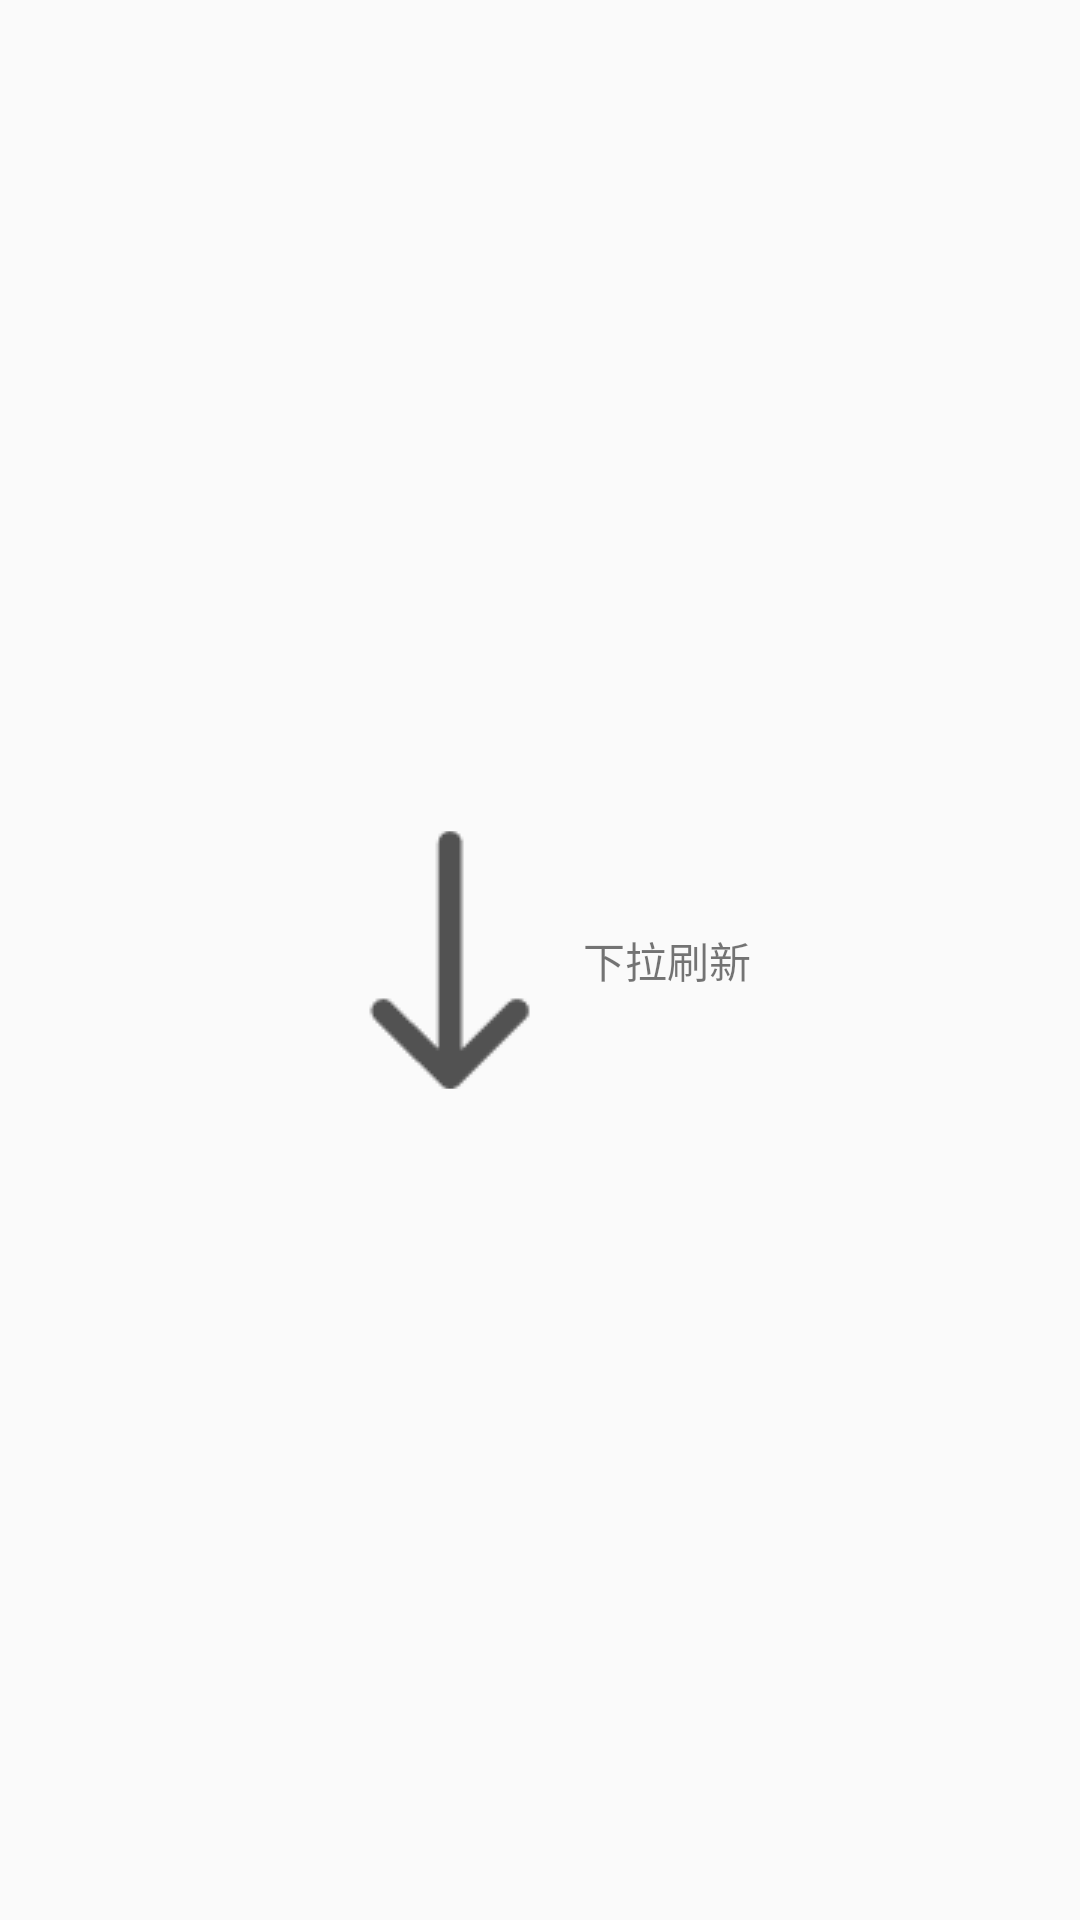

Where icons sit on this 1080*1920 app screen, as (x1, y1, x2, y2):
down arrow: (369, 831, 530, 1089)
